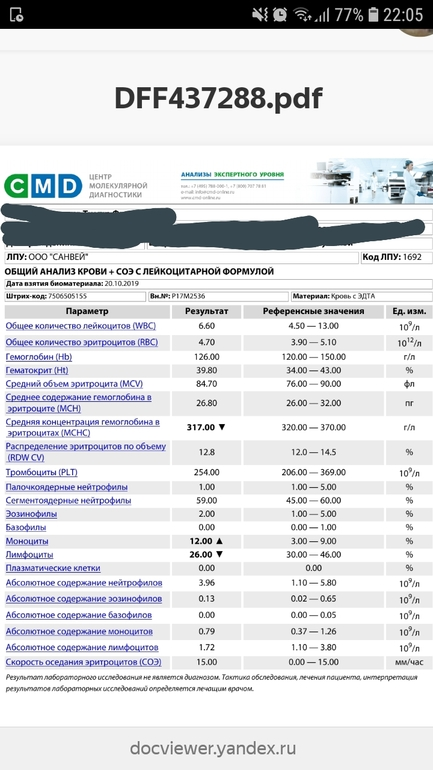column: (4, 305, 167, 668), (262, 305, 364, 668), (184, 305, 229, 668), (392, 305, 426, 668)
